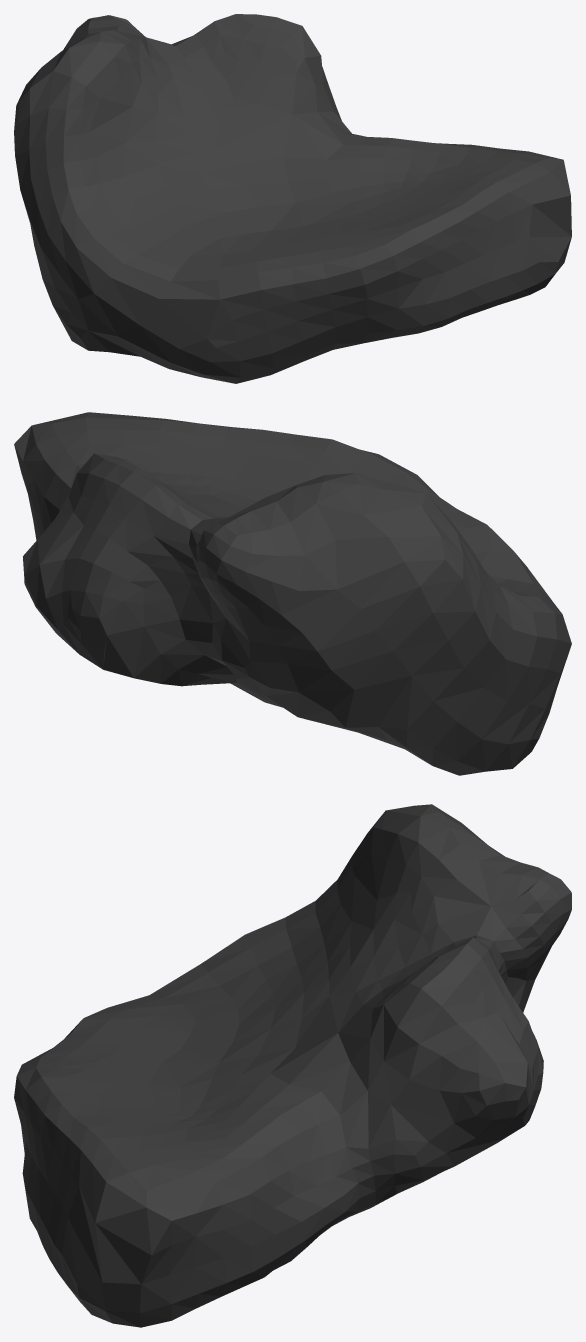
Rendered from Central_tarsal_L.glb.
The picture shows the model from 3 angles, top to bottom: view 1: azimuth 30°, elevation 25°; view 2: azimuth 150°, elevation 25°; view 3: azimuth 270°, elevation 25°; orthographic projection. The views are drawn at different scales.
Visible parts, largest first — view 1: Central_tarsal_L; view 2: Central_tarsal_L; view 3: Central_tarsal_L.
Boxes of the visible parts, x1,y1,x2,y2 form: Central_tarsal_L: [14, 14, 571, 383]; Central_tarsal_L: [14, 412, 571, 775]; Central_tarsal_L: [14, 804, 571, 1327].
Bounding box in the file's own units: 0.083 × 0.0451 × 0.0672.
1 material, 1 textured.
